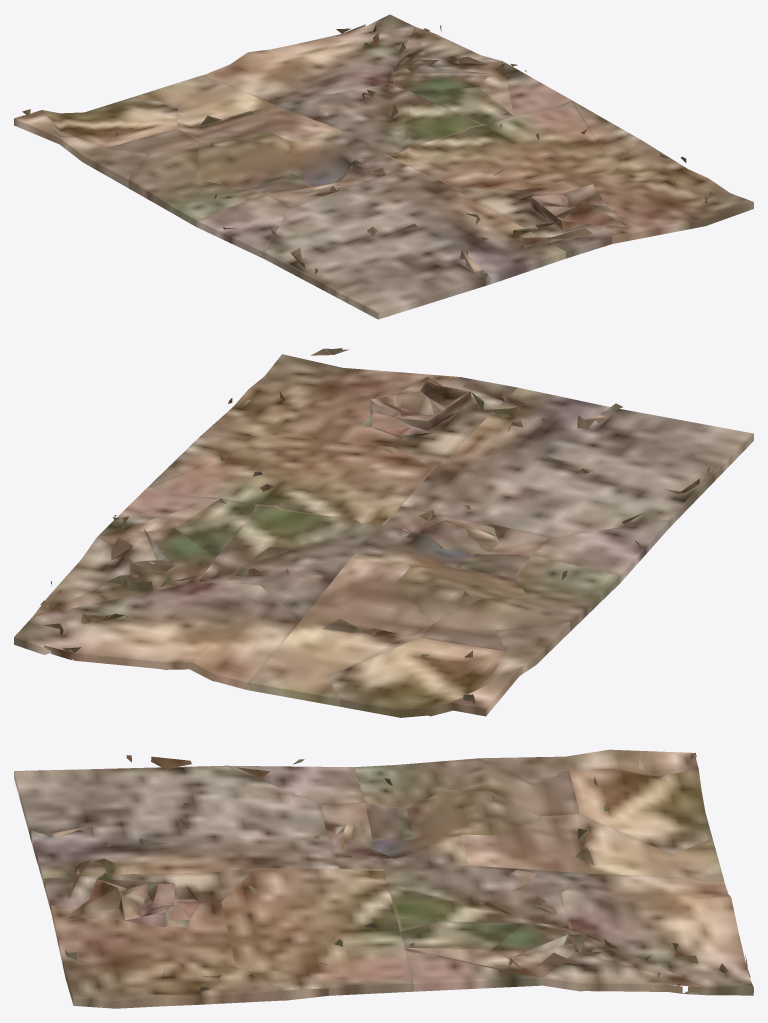
3 renders of one model, top to bottom at view 1: azimuth 30°, elevation 25°; view 2: azimuth 150°, elevation 25°; view 3: azimuth 270°, elevation 25°, orthographic. The views are drawn at different scales.
Parts seen in each view (by area): view 1: Mesh_0; view 2: Mesh_0; view 3: Mesh_0.
Part boxes in pixels (x1,y1,x2,y2): Mesh_0: (14,14,753,319); Mesh_0: (14,348,753,717); Mesh_0: (14,749,753,1008).
Size of the model in its own units: 533 by 61.97 by 659.
Materials: 1 (1 with a texture image).
